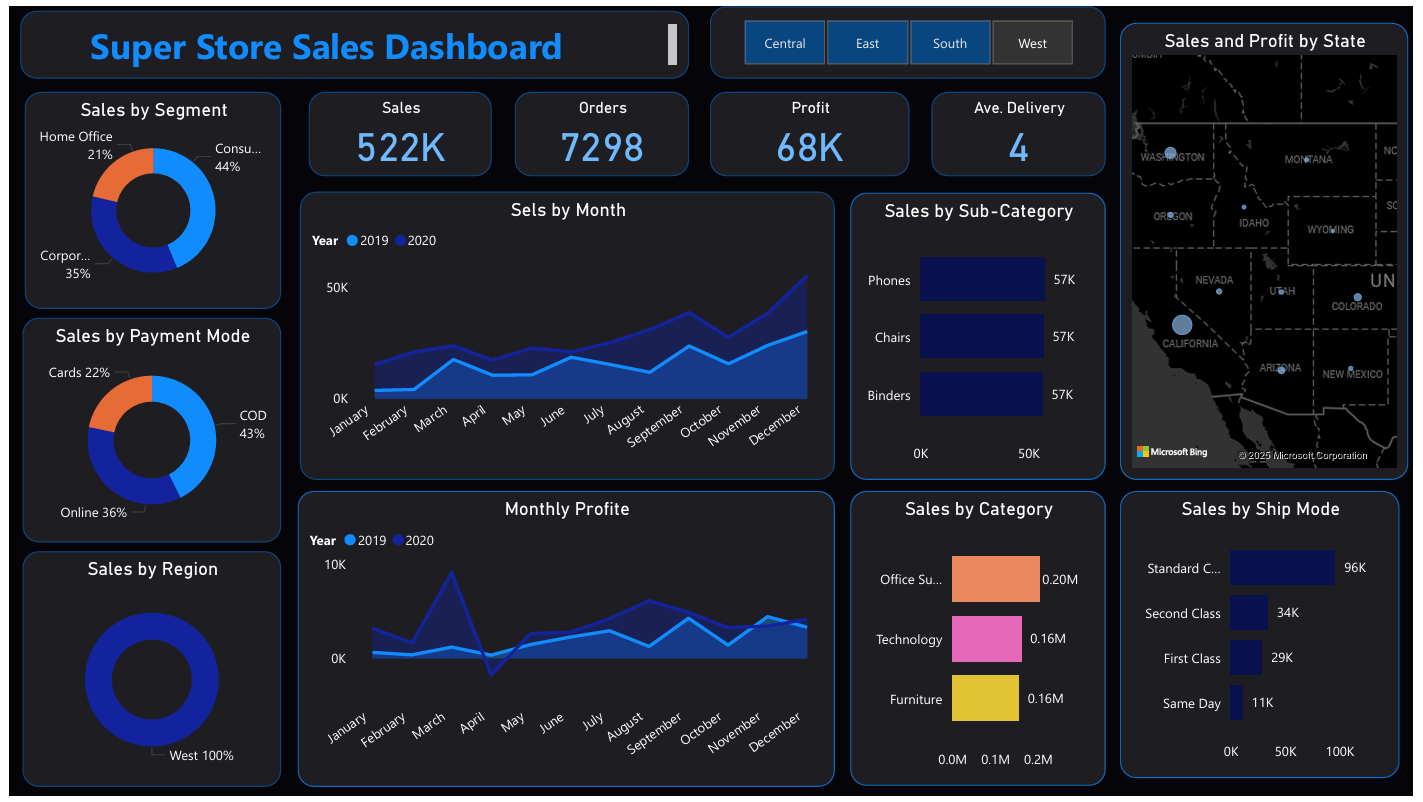

The dashboard page shown, as its layout file describes it:
{"tool":"powerbi","page":{"name":"Page 1","canvas":[1280,720],"ordinal":0},"visuals":[{"type":"clusteredBarChart","title":"Sales by Category","fields":{"Category":["SuperStore_Sales_Dataset.Category"],"Y":["Sum(SuperStore_Sales_Dataset.Sales)"]},"box":[767.1,441.9,233.3,269],"z":0},{"type":"clusteredBarChart","title":"Sales by Sub-Category","fields":{"Category":["SuperStore_Sales_Dataset.Sub-Category"],"Y":["Sum(SuperStore_Sales_Dataset.Sales)"]},"box":[767.1,170.2,233.3,262.1],"z":1000},{"type":"clusteredBarChart","title":"Sales by Ship Mode","fields":{"Category":["SuperStore_Sales_Dataset.Ship Mode"],"Y":["Sum(SuperStore_Sales_Dataset.Sales)"]},"box":[1012.7,441.9,255.2,262.1],"z":2000},{"type":"areaChart","title":"Monthly Profite","fields":{"Category":["SuperStore_Sales_Dataset.Order Date.Variation.Date Hierarchy.Month"],"Series":["SuperStore_Sales_Dataset.Order Date.Variation.Date Hierarchy.Year"],"Y":["Sum(SuperStore_Sales_Dataset.Profit)"]},"box":[263.5,441.9,489.9,270.3],"z":3000},{"type":"areaChart","title":"Sels by Month","fields":{"Y":["Sum(SuperStore_Sales_Dataset.Sales)"],"Category":["SuperStore_Sales_Dataset.Order Date.Variation.Date Hierarchy.Month"],"Series":["SuperStore_Sales_Dataset.Order Date.Variation.Date Hierarchy.Year"]},"box":[264.8,168.8,488.5,263.5],"z":4000},{"type":"map","title":"Sales and Profit by State","fields":{"Category":["SuperStore_Sales_Dataset.State"],"Size":["Sum(SuperStore_Sales_Dataset.Sales)"]},"box":[1012.7,15.1,263.5,417.2],"z":5000},{"type":"donutChart","title":"Sales by Segment","fields":{"Category":["SuperStore_Sales_Dataset.Segment"],"Y":["Sum(SuperStore_Sales_Dataset.Sales)"]},"box":[13.7,78.2,234.6,197.6],"z":6000},{"type":"donutChart","title":"Sales by Region","fields":{"Y":["Sum(SuperStore_Sales_Dataset.Sales)"],"Category":["SuperStore_Sales_Dataset.Region"]},"box":[12.3,496.7,236,215.4],"z":7000},{"type":"donutChart","title":"Sales by Payment Mode","fields":{"Category":["SuperStore_Sales_Dataset.Payment Mode"],"Y":["Sum(SuperStore_Sales_Dataset.Sales)"]},"box":[12.3,284,236,204.5],"z":8000},{"type":"slicer","fields":{"Values":["SuperStore_Sales_Dataset.Region"]},"box":[639.5,0,360.9,65.9],"z":9000},{"type":"textbox","box":[9.6,4.1,610.6,61.7],"z":10000},{"type":"card","title":"Sales","fields":{"Values":["Sum(SuperStore_Sales_Dataset.Sales)"]},"box":[273.1,78.2,167.4,76.8],"z":11000},{"type":"card","title":"Orders","fields":{"Values":["Sum(SuperStore_Sales_Dataset.Quantity)"]},"box":[461.1,78.2,159.2,76.8],"z":12000},{"type":"card","title":"Profit","fields":{"Values":["Sum(SuperStore_Sales_Dataset.Profit)"]},"box":[639.5,78.2,181.1,76.8],"z":13000},{"type":"card","title":"Ave. Delivery","fields":{"Values":["Avg(SuperStore_Sales_Dataset.AvgDelivery)"]},"box":[841.2,78.2,159.2,76.8],"z":14000}]}

Visuals, with their boxes in screenshot pixels (x1, y1, x2, y2), scaled from the page's 1280x720 canvas onto the 1423x802 screenshot:
"Sales by Category" clusteredBarChart: bbox(853, 492, 1112, 792)
"Sales by Sub-Category" clusteredBarChart: bbox(853, 190, 1112, 482)
"Sales by Ship Mode" clusteredBarChart: bbox(1126, 492, 1410, 784)
"Monthly Profite" areaChart: bbox(293, 492, 838, 793)
"Sels by Month" areaChart: bbox(294, 188, 837, 482)
"Sales and Profit by State" map: bbox(1126, 17, 1419, 482)
"Sales by Segment" donutChart: bbox(15, 87, 276, 307)
"Sales by Region" donutChart: bbox(14, 553, 276, 793)
"Sales by Payment Mode" donutChart: bbox(14, 316, 276, 544)
slicer - SuperStore_Sales_Dataset.Region: bbox(711, 0, 1112, 73)
textbox: bbox(11, 5, 689, 73)
"Sales" card: bbox(304, 87, 490, 173)
"Orders" card: bbox(513, 87, 690, 173)
"Profit" card: bbox(711, 87, 912, 173)
"Ave. Delivery" card: bbox(935, 87, 1112, 173)
